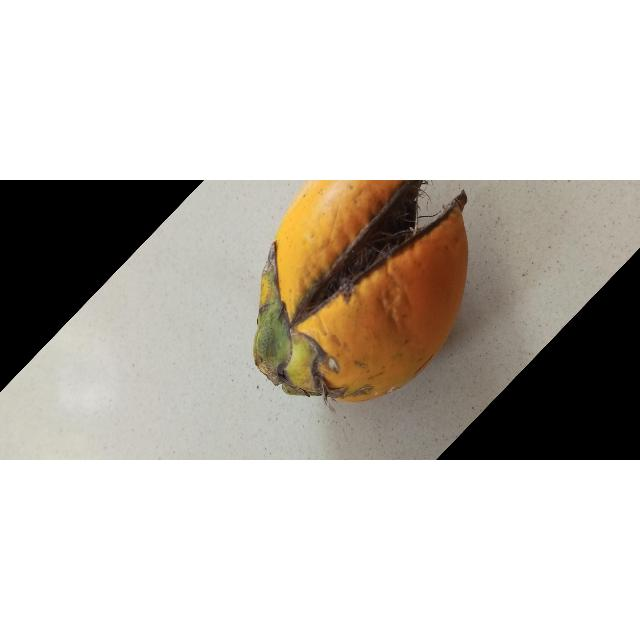damaged: (254, 180, 469, 405)
